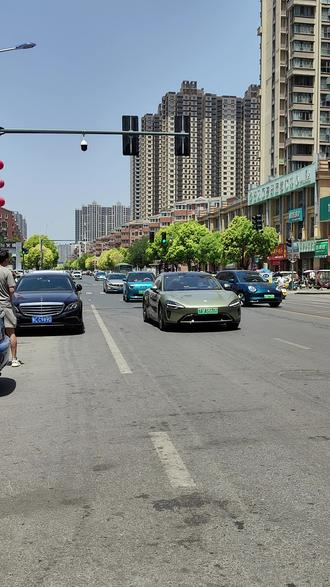other: (15, 269, 84, 334), (213, 267, 282, 307), (120, 273, 157, 299), (100, 272, 126, 292)
su7: (139, 273, 242, 332)
